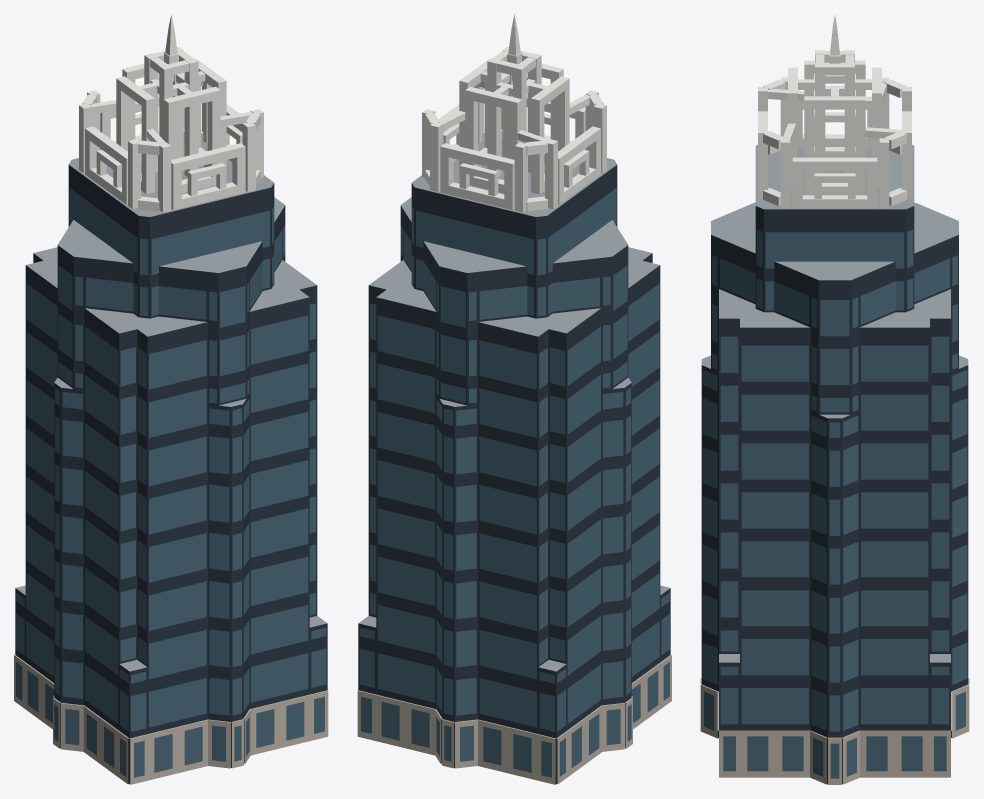
Rendered from atl-king-tower.glb.
3 renders of one model, left to right at view 1: azimuth 30°, elevation 25°; view 2: azimuth 150°, elevation 25°; view 3: azimuth 270°, elevation 25°, orthographic.
Parts seen in each view (by area): view 1: The King (Concourse Corporate Center VI); view 2: The King (Concourse Corporate Center VI); view 3: The King (Concourse Corporate Center VI).
Boxes of the visible parts, <box> form: The King (Concourse Corporate Center VI): <box>14,14,328,784</box>; The King (Concourse Corporate Center VI): <box>357,14,671,784</box>; The King (Concourse Corporate Center VI): <box>700,15,969,784</box>.
Size of the model in its own units: 57.7 by 169 by 57.7.
